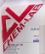ChemLab: (1, 3, 43, 51)
